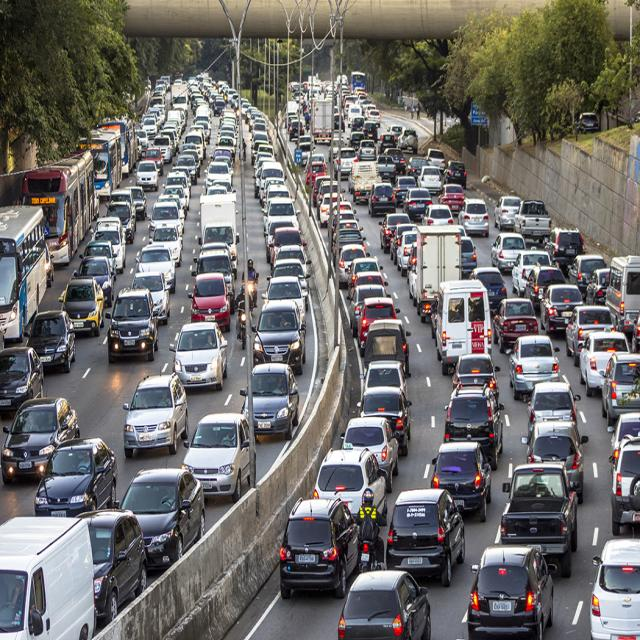car: (388, 485, 467, 579), (283, 494, 357, 594), (340, 564, 432, 640), (470, 549, 552, 633), (183, 417, 250, 497), (123, 371, 188, 453), (314, 450, 388, 520), (592, 534, 640, 640), (242, 364, 298, 438), (172, 320, 225, 388), (254, 301, 305, 371), (111, 286, 156, 362), (29, 309, 73, 370), (187, 273, 228, 330), (65, 273, 103, 333), (265, 276, 302, 321)
motorcycle: (236, 306, 252, 349), (243, 280, 256, 316)
